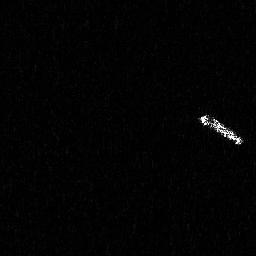ship: (196, 112, 245, 148)
